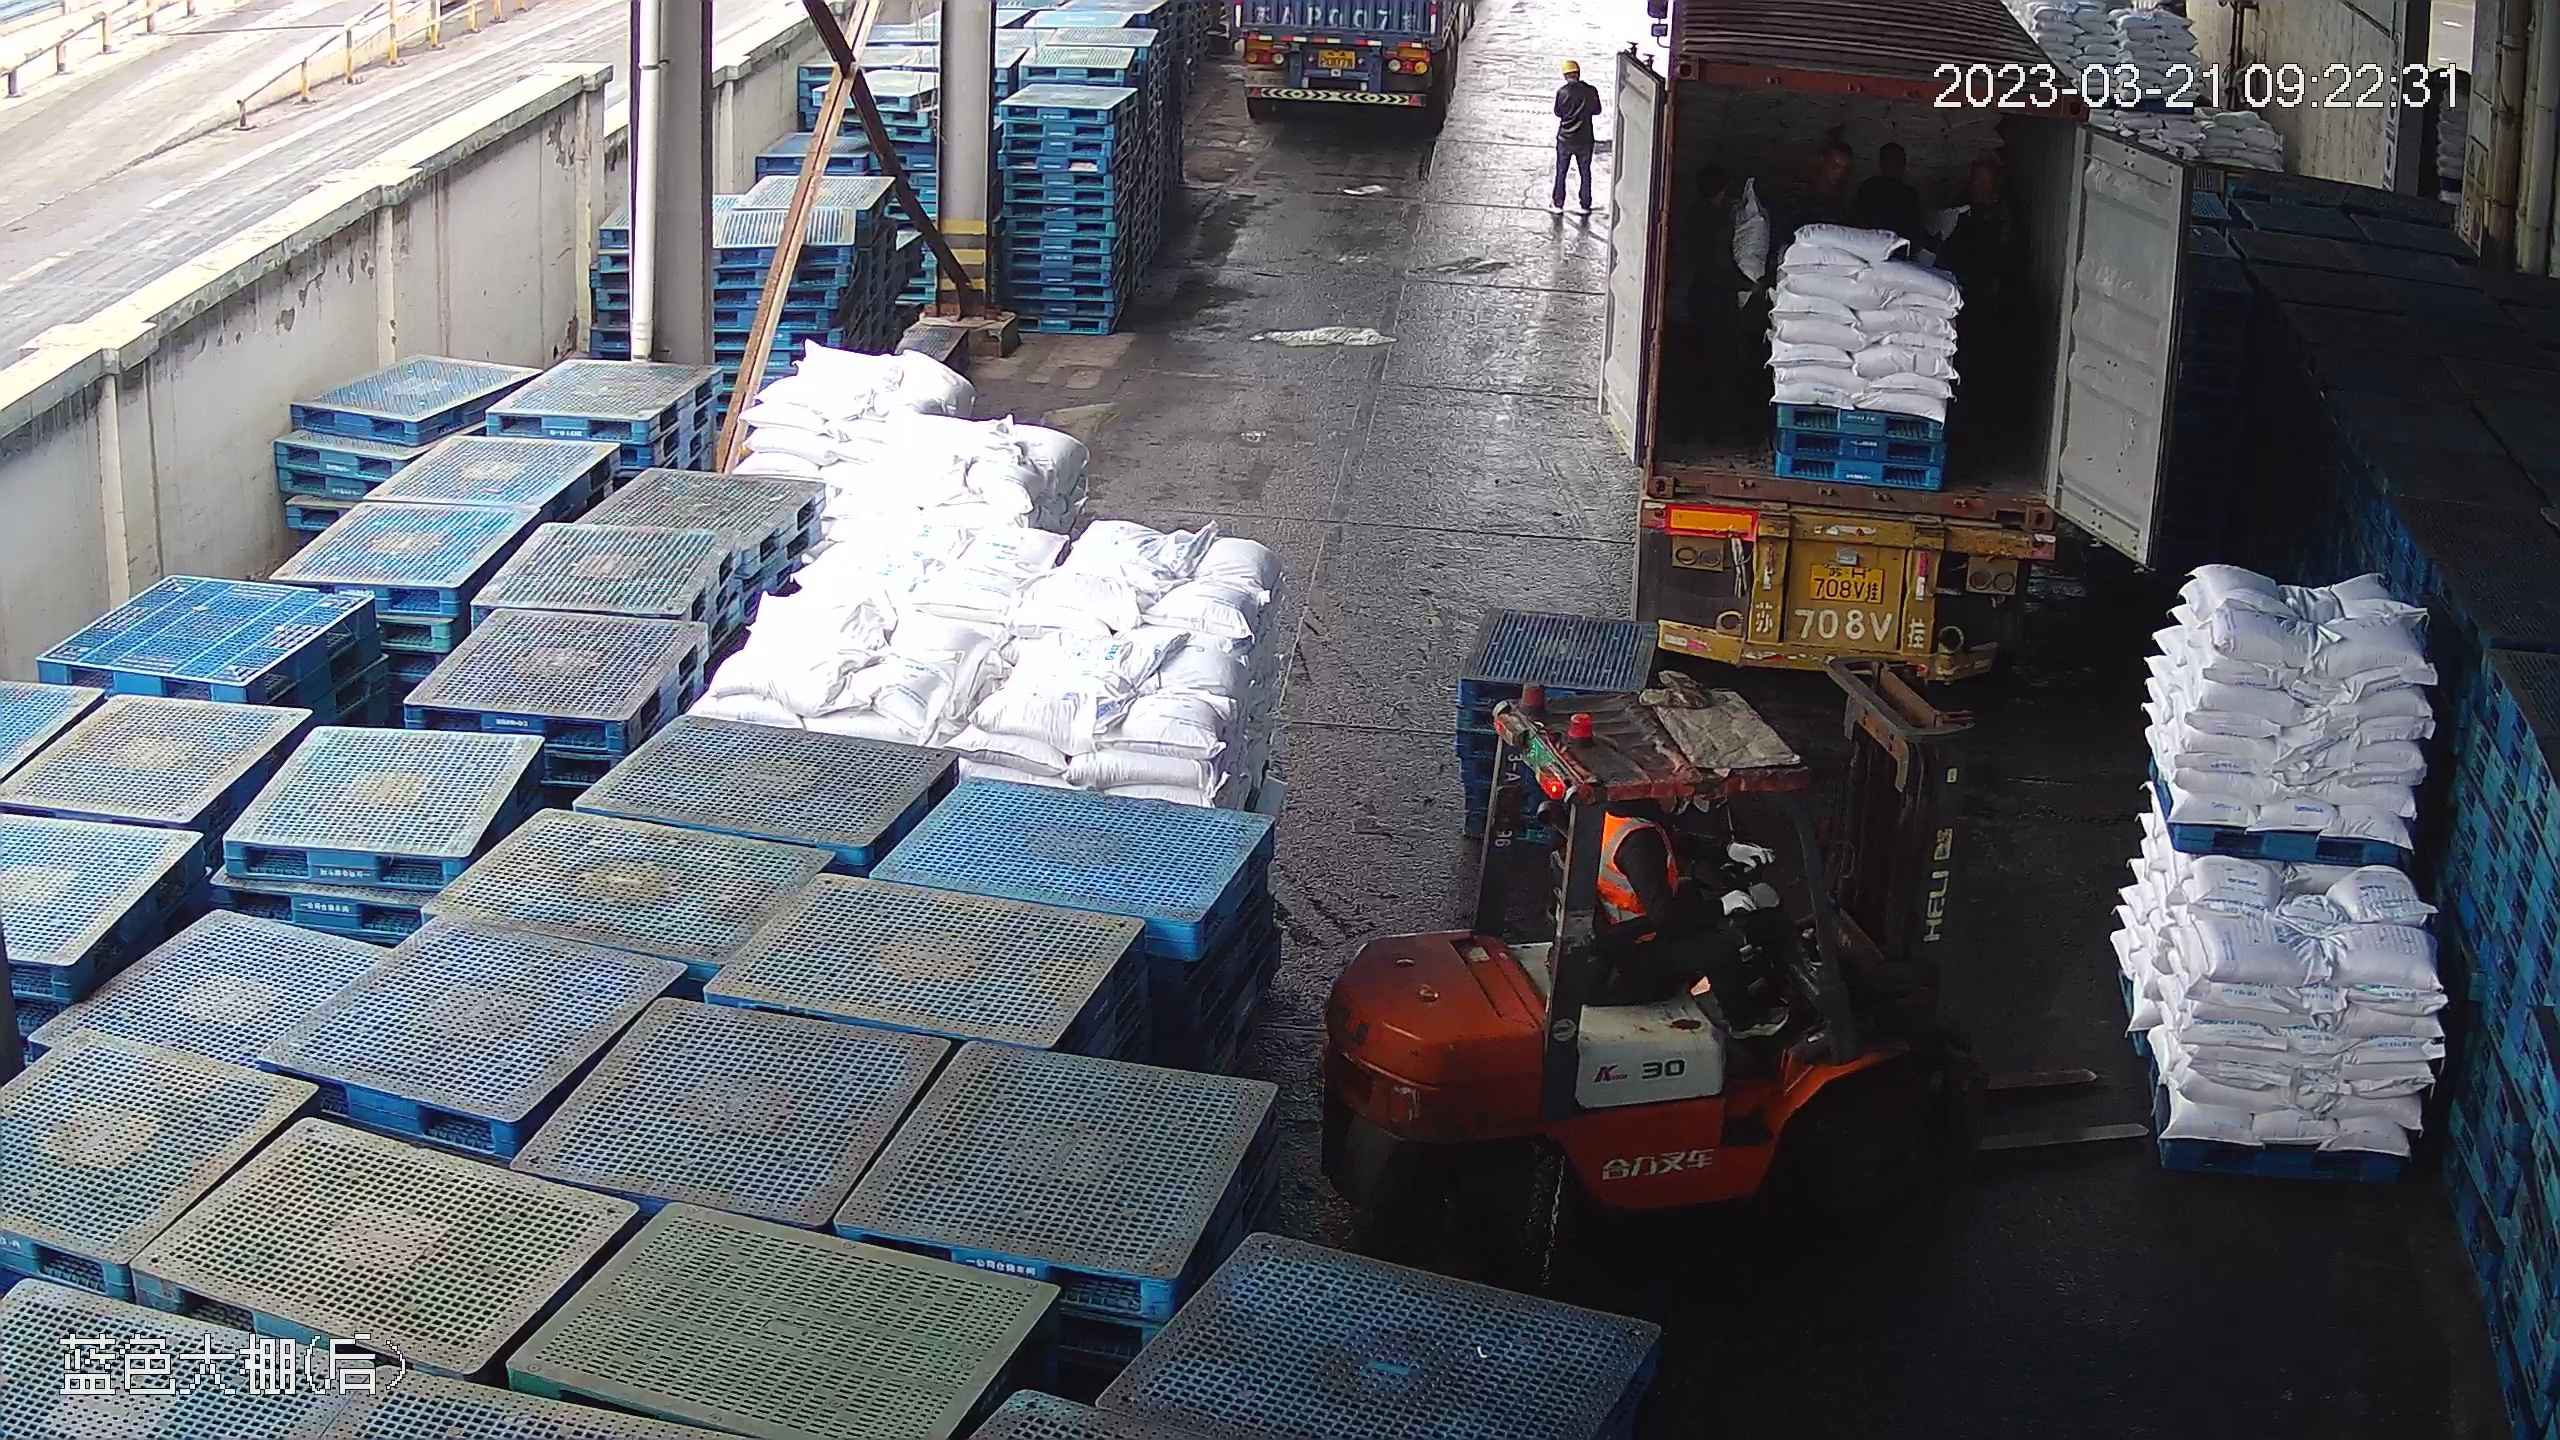head: (1551, 55, 1598, 104)
helmet: (1561, 57, 1580, 74)
people: (1589, 797, 1795, 1027), (1548, 48, 1603, 221)
truck: (1610, 1, 2188, 702), (1230, 1, 1475, 112)
